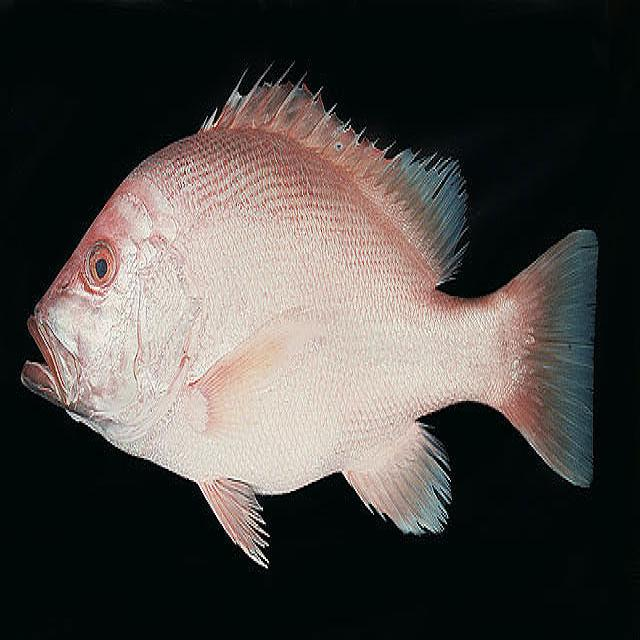ikan: (19, 57, 599, 570)
